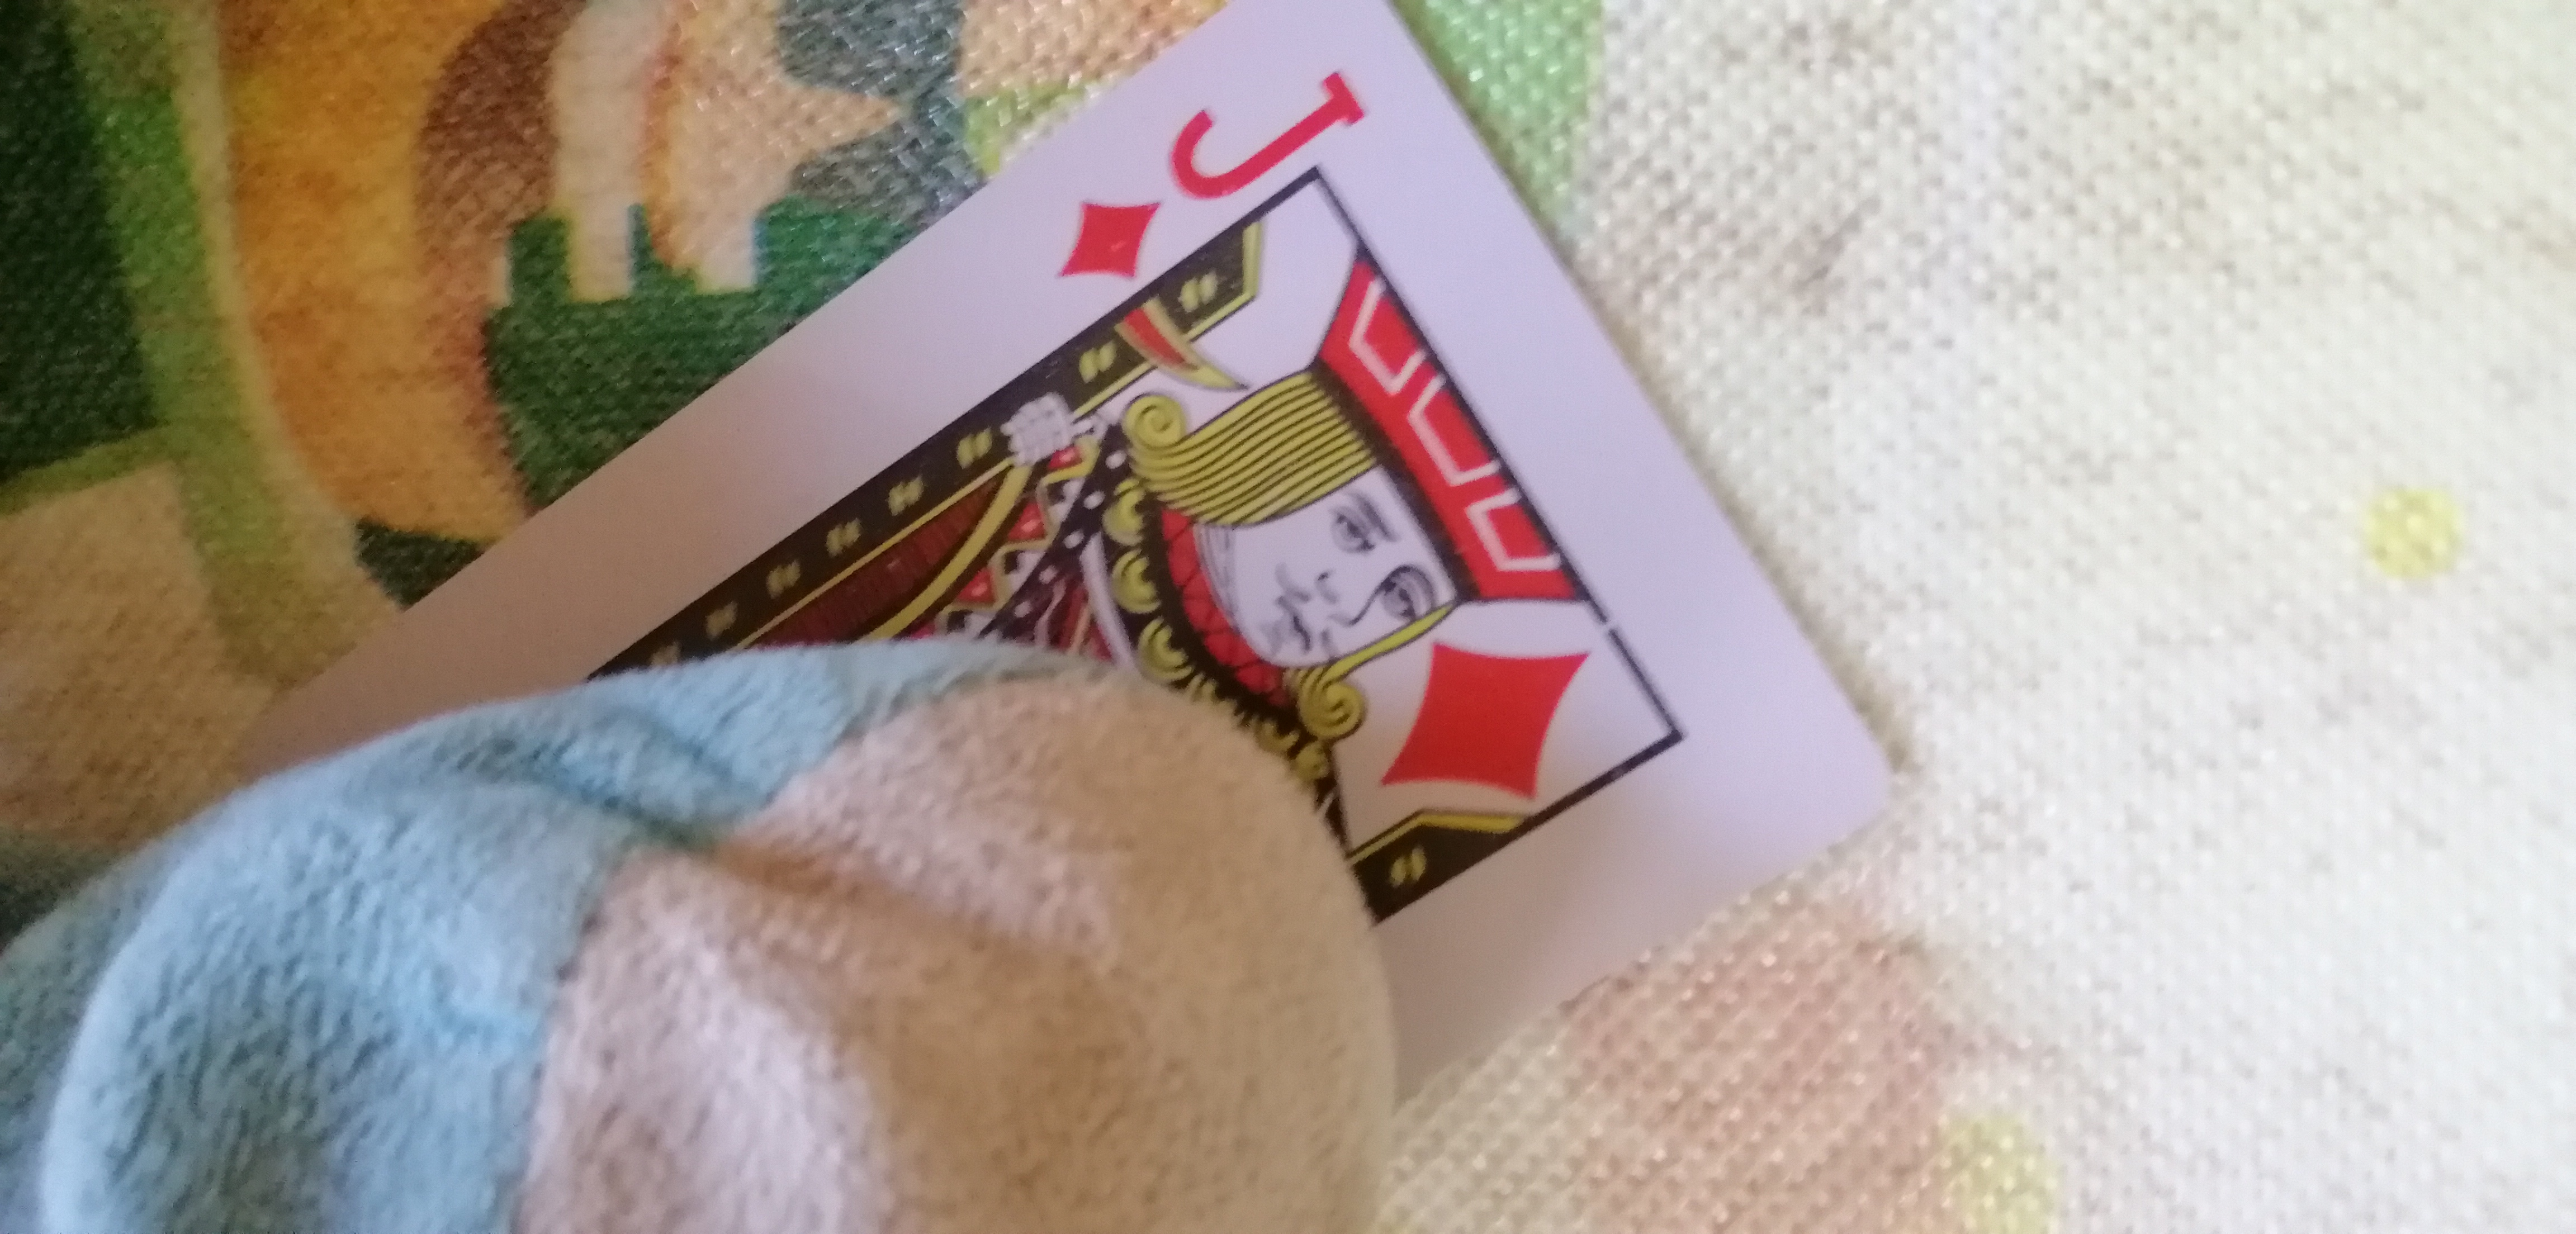jack: (309, 20, 1935, 1011)
